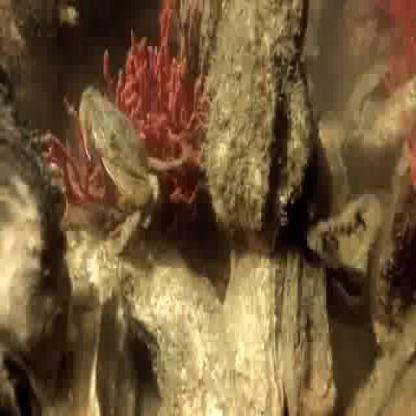Oyster-Closed: (209, 0, 313, 258), (0, 113, 70, 394)
Oyster-Open: (0, 347, 41, 416), (0, 58, 18, 106)
